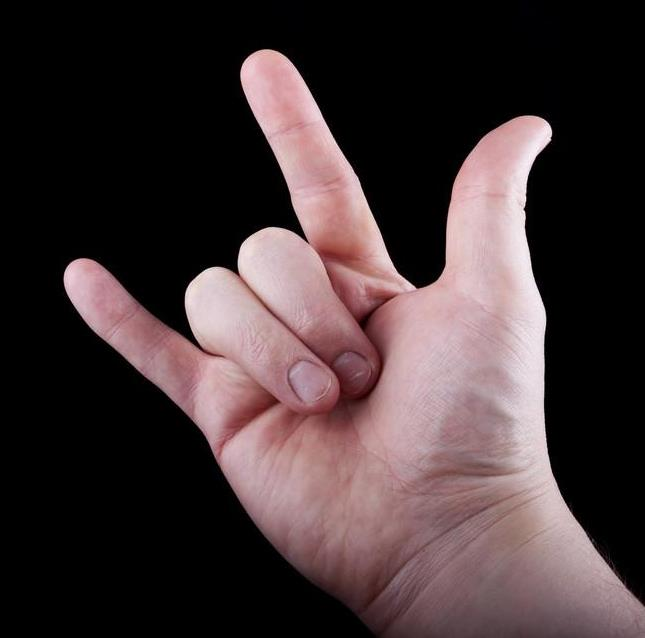back: (52, 43, 564, 581)
